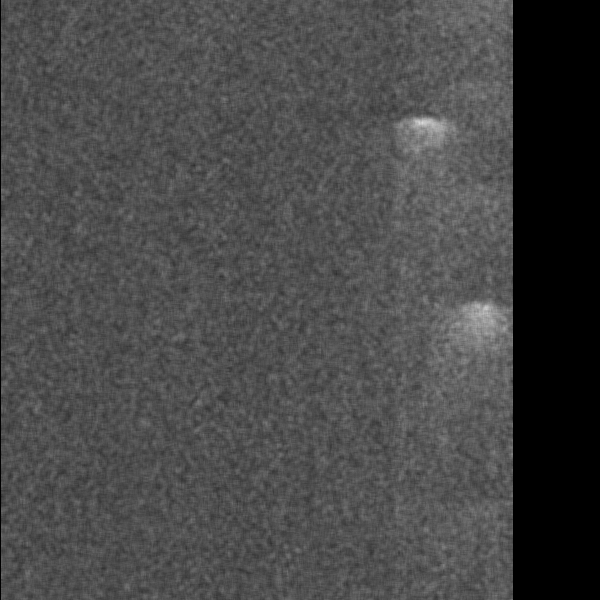spark: (453, 295, 508, 384), (394, 114, 461, 156), (471, 87, 492, 106), (479, 34, 491, 49)
